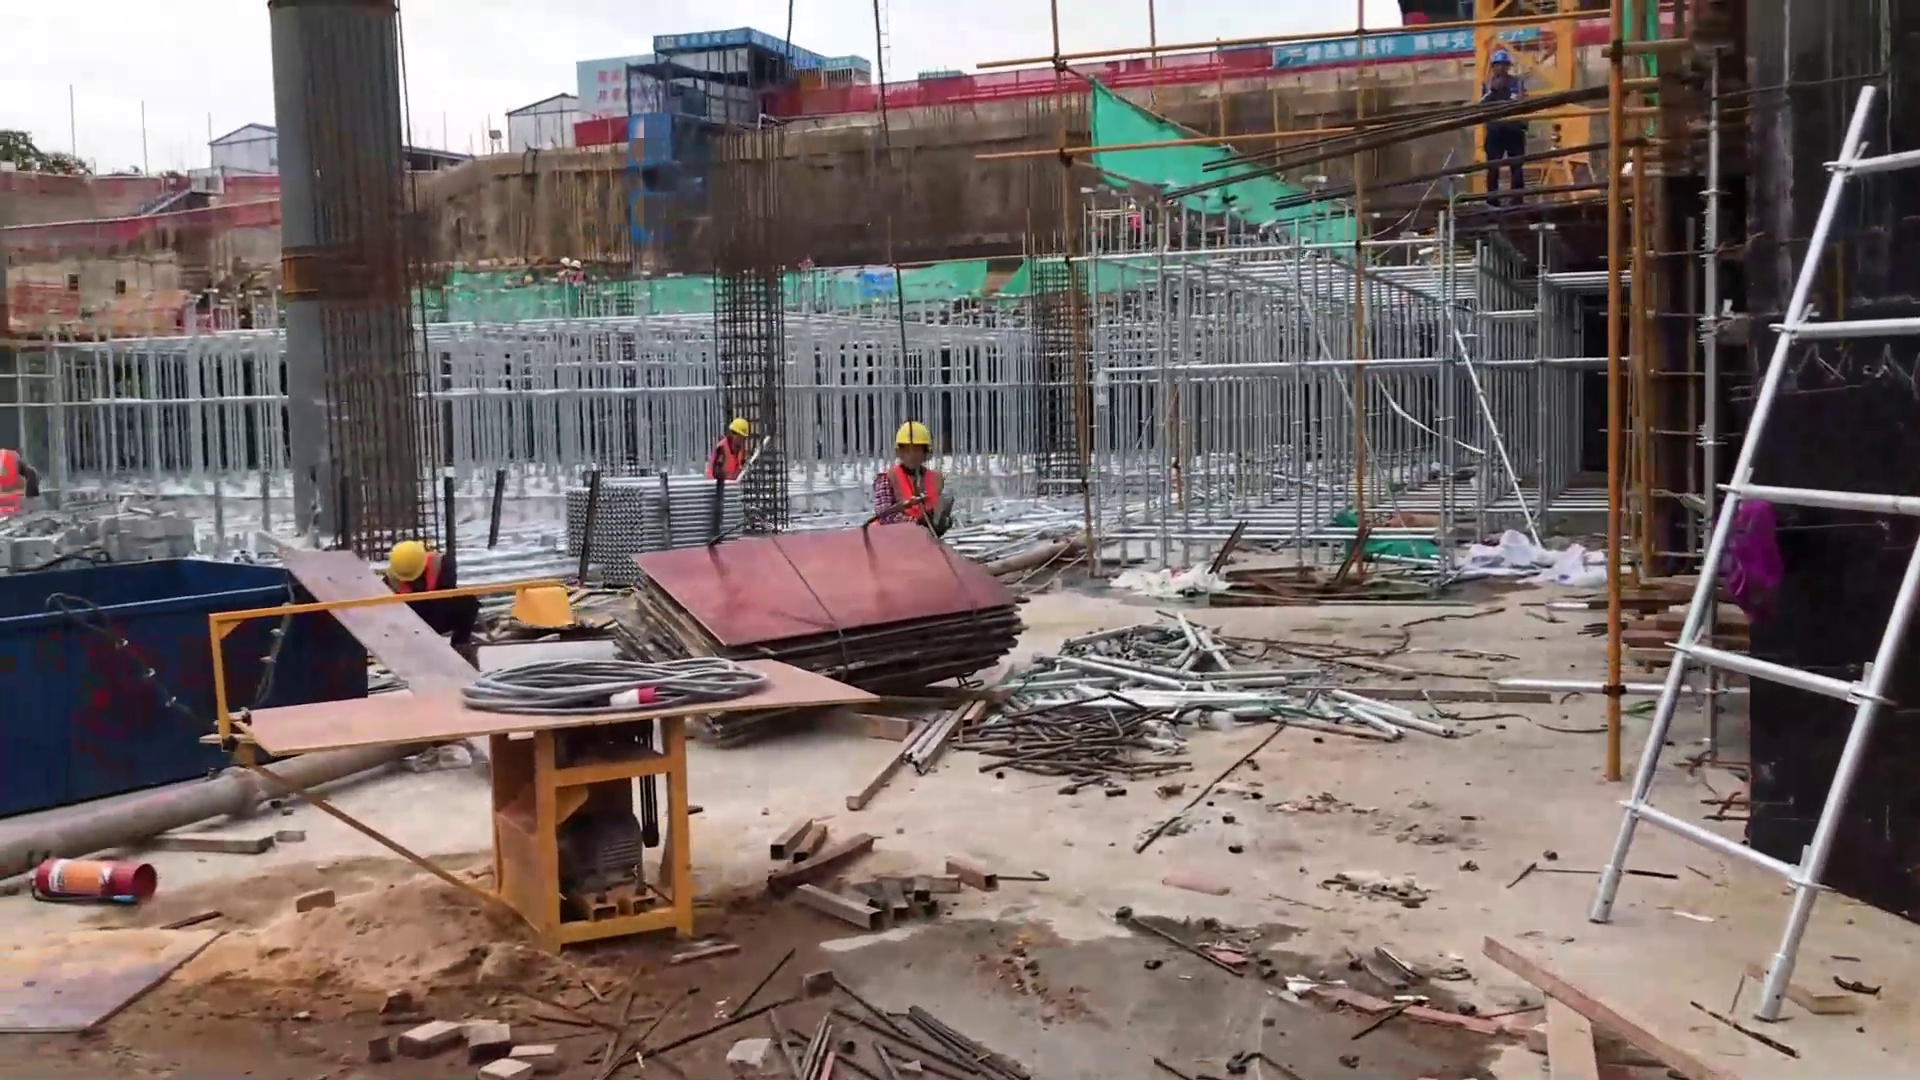board: (617, 519, 1031, 696)
helmet: (892, 418, 930, 456), (725, 412, 757, 435)
hopper: (4, 563, 385, 821)
person: (376, 538, 481, 670), (869, 416, 947, 542), (1474, 52, 1533, 211), (703, 416, 752, 547), (3, 448, 43, 536)
scaffold: (549, 469, 750, 569)
vest: (872, 472, 938, 509), (704, 439, 747, 473)
